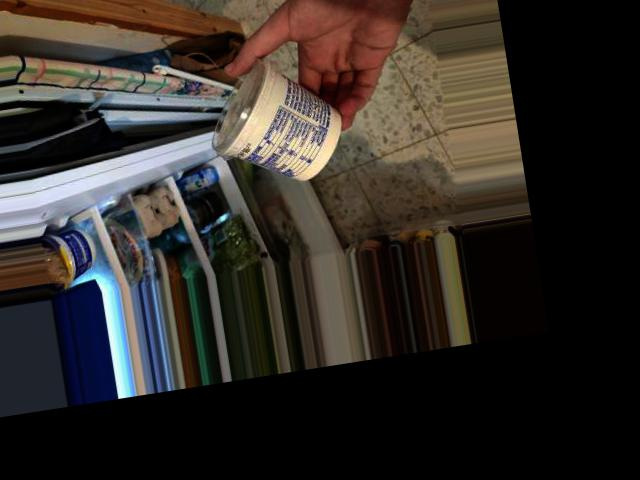cotage: (196, 61, 330, 177)
